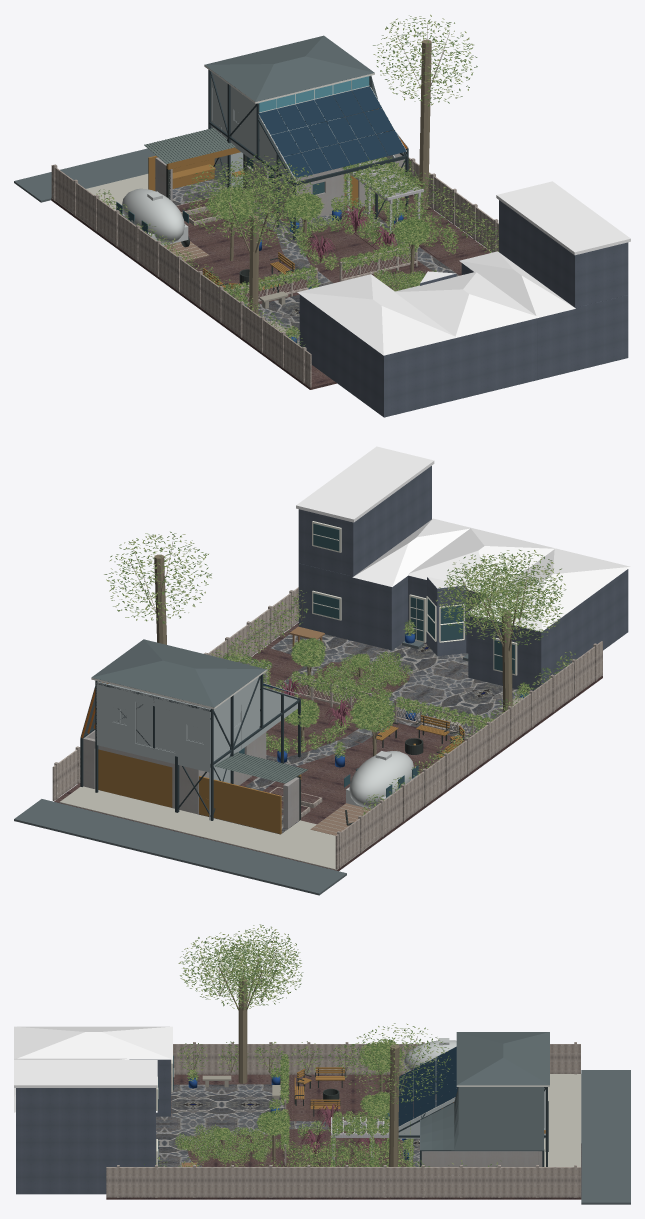
File: backyard-current.glb
3 views of the same model, one above another, from view 1: azimuth 30°, elevation 25°; view 2: azimuth 150°, elevation 25°; view 3: azimuth 270°, elevation 25° (orthographic). The views are drawn at different scales.
Parts seen in each view (by area): view 1: House west projecting wing, Approximate boundary fence, House two storey east portion, Approximate backyard extent, West house hip roof, House east projecting wing, House recessed central wing, Central house hip roof, Upper house shallow roof, East lower hip roof, Rear alley context, CURRENT / Hip cap S (+22 smaller); view 2: Rear alley context, Approximate boundary fence, House west projecting wing, House flagstone patio, House two storey east portion, House east projecting wing, Approximate backyard extent, West house hip roof, Upper house shallow roof, Central house hip roof, Rear work patio, Approximate boundary fence.001 (+32 smaller); view 3: Approximate boundary fence.001, House east projecting wing, House two storey east portion, Rear alley context, Approximate boundary fence, House flagstone patio, West house hip roof, Upper house shallow roof, Approximate backyard extent, Conversation area wood-chip surface, East overhanging canopy / detailed leaves, Rear work patio (+18 smaller).
Part boxes in pixels (box(x1,y1,x2,y2)): House west projecting wing: box(299, 294, 455, 417); Approximate boundary fence: box(51, 165, 311, 387); House two storey east portion: box(499, 200, 628, 307); Approximate backyard extent: box(51, 190, 491, 389); West house hip roof: box(297, 274, 454, 355); House east projecting wing: box(461, 263, 628, 379); House recessed central wing: box(455, 318, 537, 399); Central house hip roof: box(395, 272, 539, 338); Upper house shallow roof: box(496, 181, 630, 255); East lower hip roof: box(459, 251, 575, 317); Rear alley context: box(14, 148, 155, 202); CURRENT / Hip cap S: box(255, 56, 374, 101); Rear alley context: box(14, 799, 346, 895); Approximate boundary fence: box(335, 641, 602, 869); House west projecting wing: box(468, 569, 628, 691); House flagstone patio: box(271, 634, 527, 738); House two storey east portion: box(298, 466, 431, 576); House east projecting wing: box(298, 563, 407, 650); Approximate backyard extent: box(54, 623, 602, 871); West house hip roof: box(468, 549, 630, 631); Upper house shallow roof: box(296, 446, 434, 522); Central house hip roof: box(408, 527, 556, 594); Rear work patio: box(177, 814, 377, 869); Approximate boundary fence.001: box(52, 587, 298, 800); Approximate boundary fence.001: box(106, 1167, 580, 1197); House east projecting wing: box(16, 1136, 155, 1194); House two storey east portion: box(16, 1088, 155, 1136); Rear alley context: box(581, 1070, 630, 1204); Approximate boundary fence: box(171, 1044, 580, 1074); House flagstone patio: box(156, 1084, 284, 1166); West house hip roof: box(14, 1026, 172, 1059); Upper house shallow roof: box(14, 1060, 157, 1087); Approximate backyard extent: box(106, 1074, 581, 1199); Conversation area wood-chip surface: box(289, 1079, 369, 1119); East overhanging canopy / detailed leaves: box(341, 1023, 450, 1103); Rear work patio: box(544, 1074, 581, 1143).
Bounding box in the file's own units: 19.83 × 9.87 × 32.38.
Materials: 113 (6 with a texture image).
